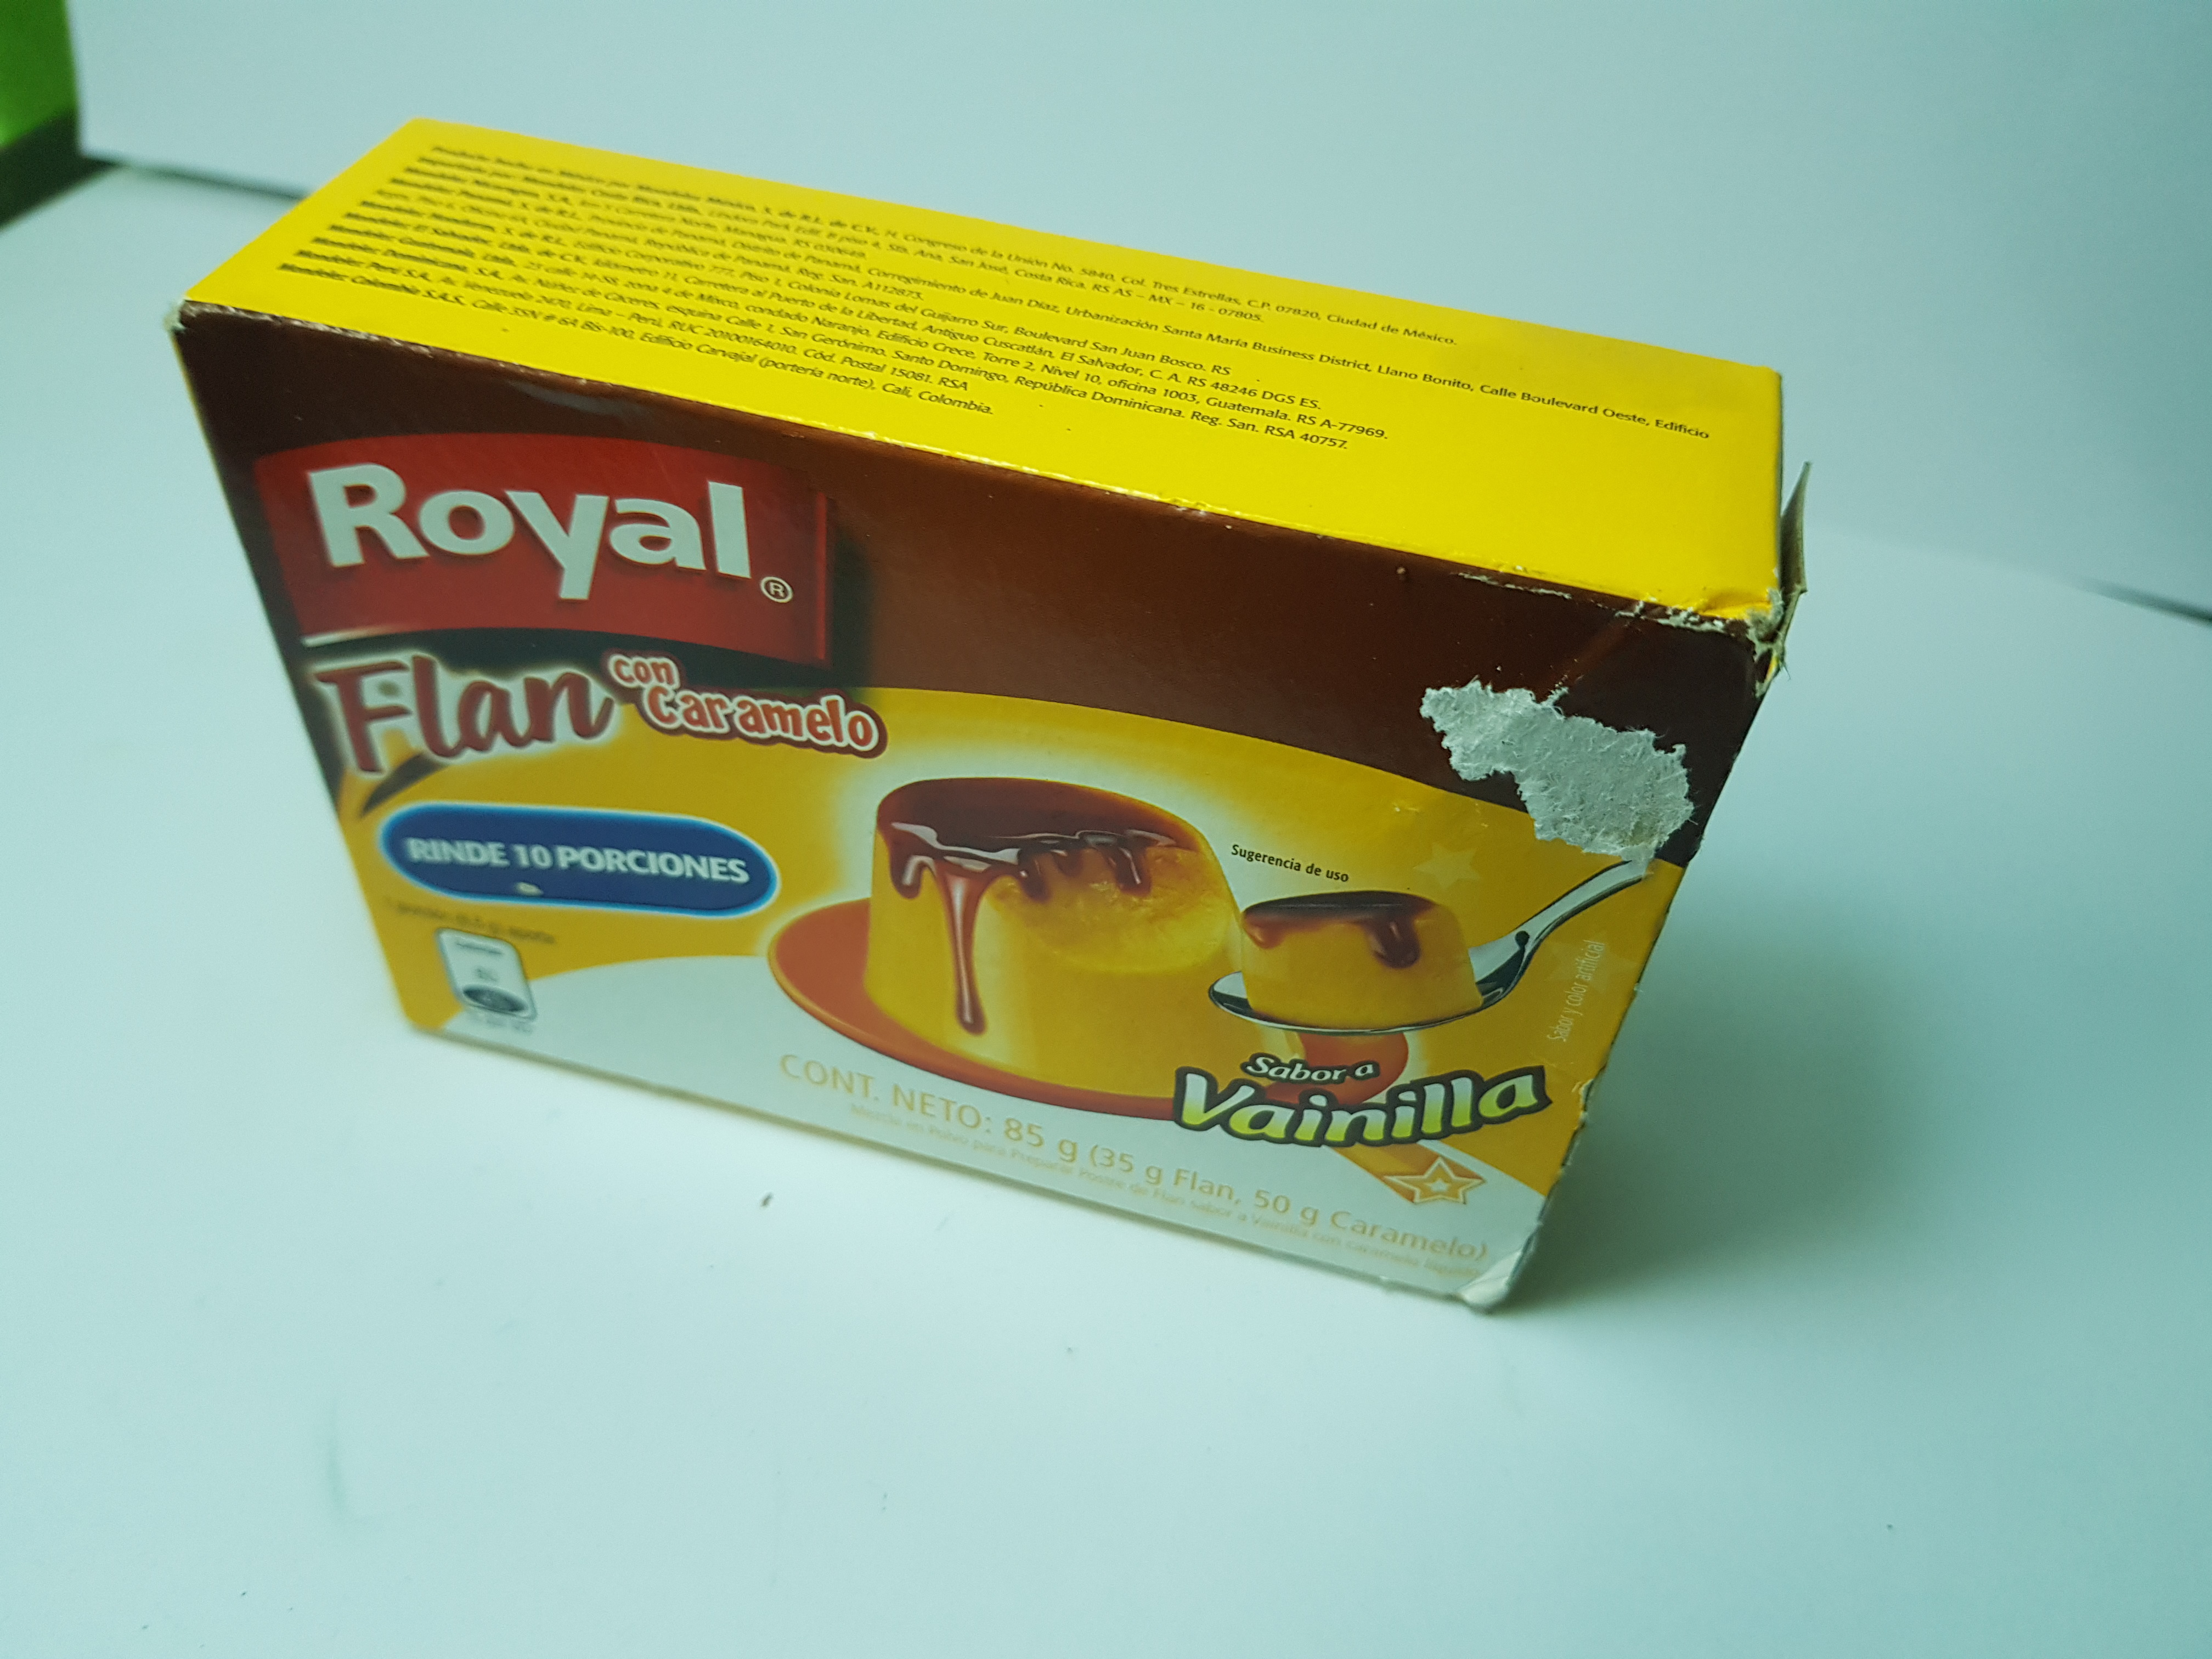flan: (155, 94, 1839, 1349)
